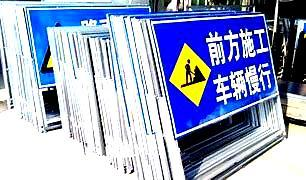sign: (156, 16, 284, 128)
